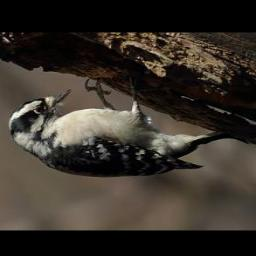Woodpecker: (9, 77, 236, 177)
